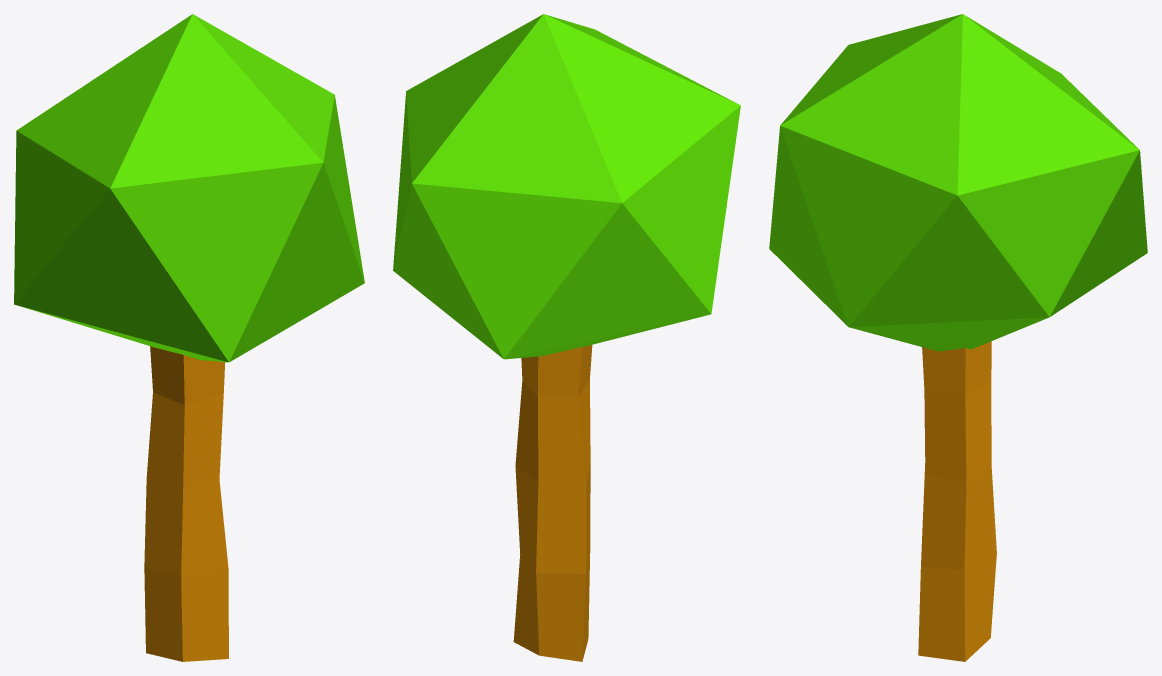
The model's file is tree.glb.
The picture shows the model from 3 angles, left to right: view 1: azimuth 30°, elevation 25°; view 2: azimuth 150°, elevation 25°; view 3: azimuth 270°, elevation 25°; orthographic projection.
Visible parts, largest first — view 1: Icosphere, Tree; view 2: Icosphere, Tree; view 3: Icosphere, Tree.
Part boxes in pixels (left/top/right/bottom): Icosphere: left=14, top=14, right=364, bottom=362; Tree: left=144, top=346, right=228, bottom=661; Icosphere: left=393, top=14, right=740, bottom=359; Tree: left=513, top=345, right=592, bottom=661; Icosphere: left=769, top=14, right=1147, bottom=351; Tree: left=918, top=341, right=996, bottom=661.
Bounding box in the file's own units: 1.18 × 2.27 × 1.23.
